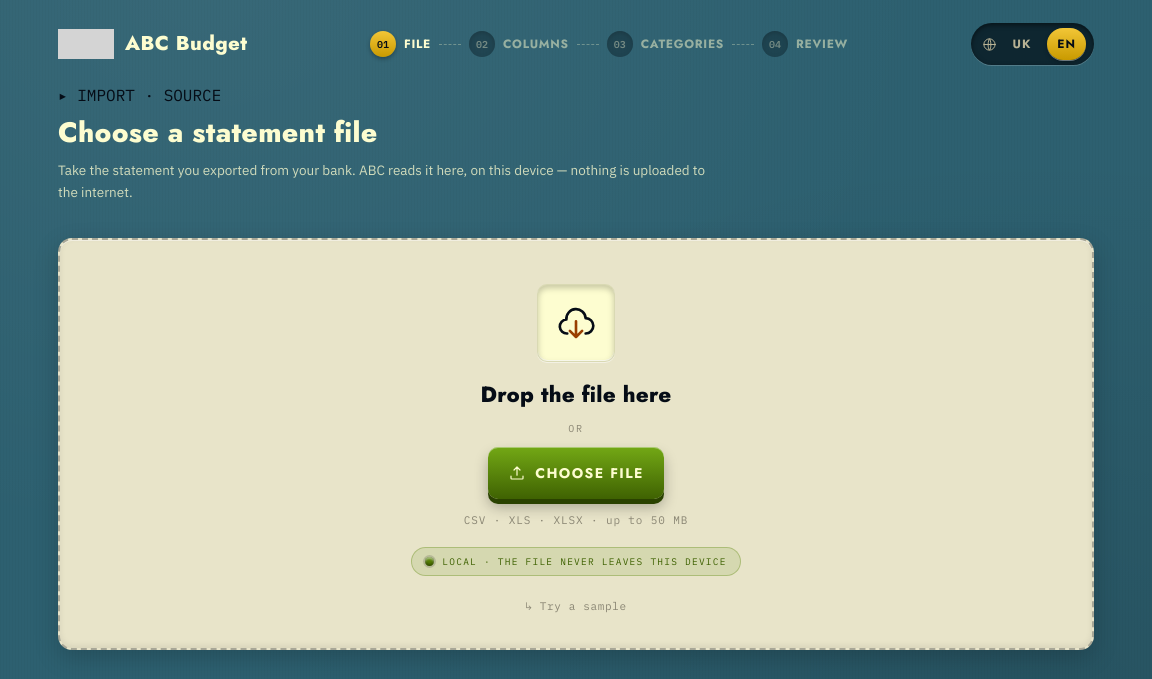
Test case: S3a state matrix [en] › 7 · sample path — the ↳ link fetches the bundled asset → recognized
Click the button "↳ Try a sample": [576, 606] box [520, 594, 632, 618]
(page scrolled)
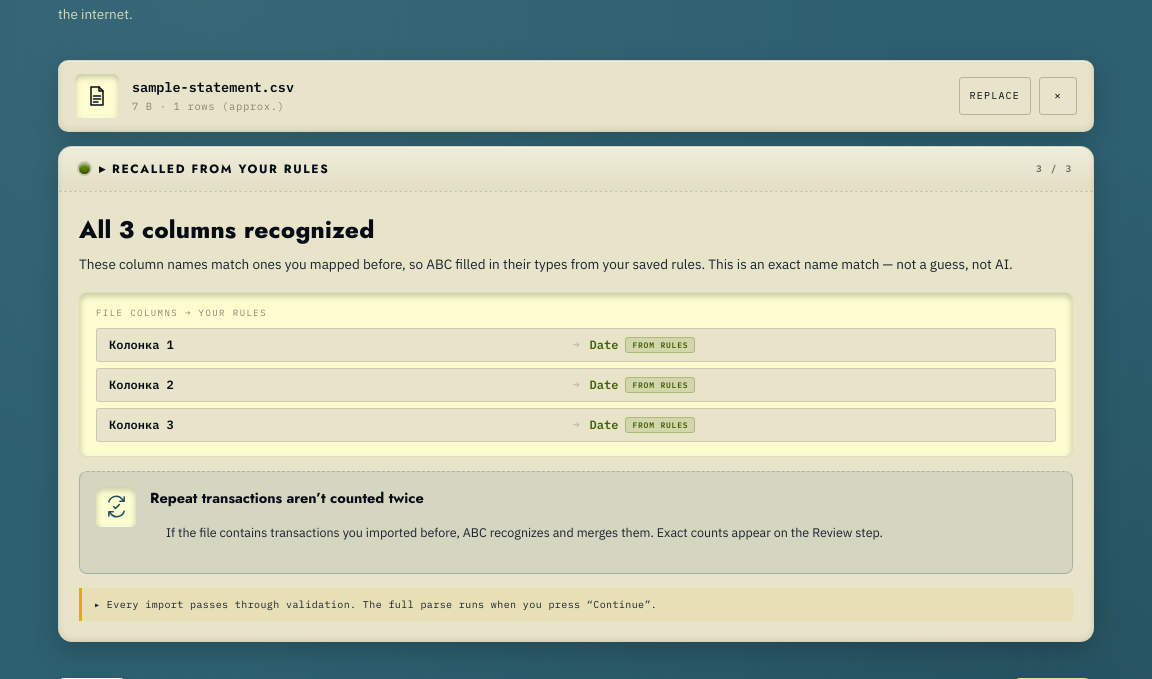
Now the element with test id "s3a-recognized" is shown
